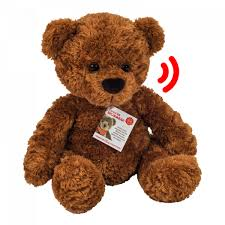teddy: (21, 7, 211, 216)
